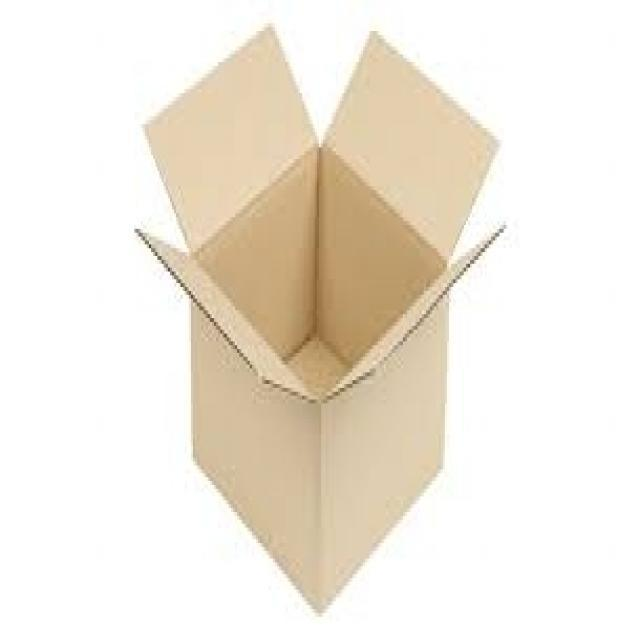cardboard paper: (139, 26, 495, 607)
